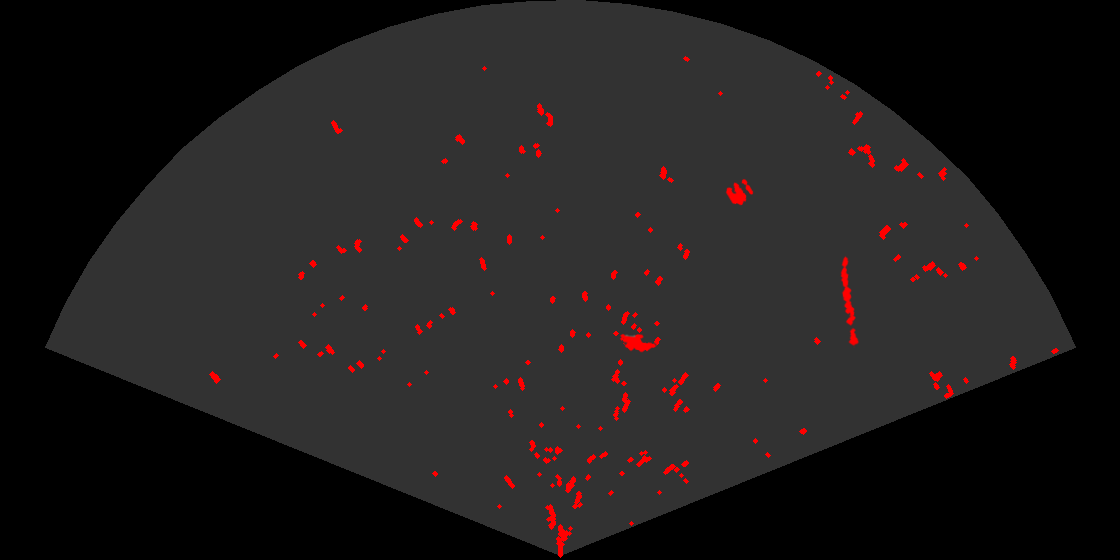AUV: (618, 332, 658, 354)
ball: (724, 177, 755, 207)
chain: (839, 254, 860, 348)
